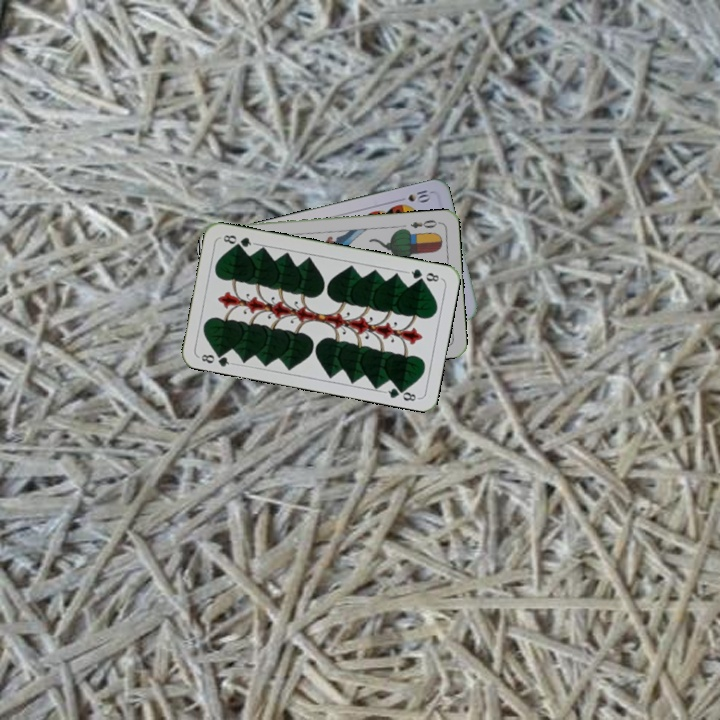EO: (406, 216, 442, 231)
G8: (197, 347, 236, 369), (403, 265, 444, 284)
S10: (393, 185, 433, 204)
